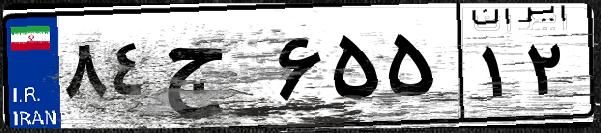1: (475, 38, 525, 113)
2: (525, 38, 570, 115)
4: (110, 28, 158, 98)
5: (385, 28, 445, 110), (330, 28, 385, 110)
6: (270, 28, 330, 110)
8: (57, 26, 110, 100)
ج: (158, 20, 270, 120)
